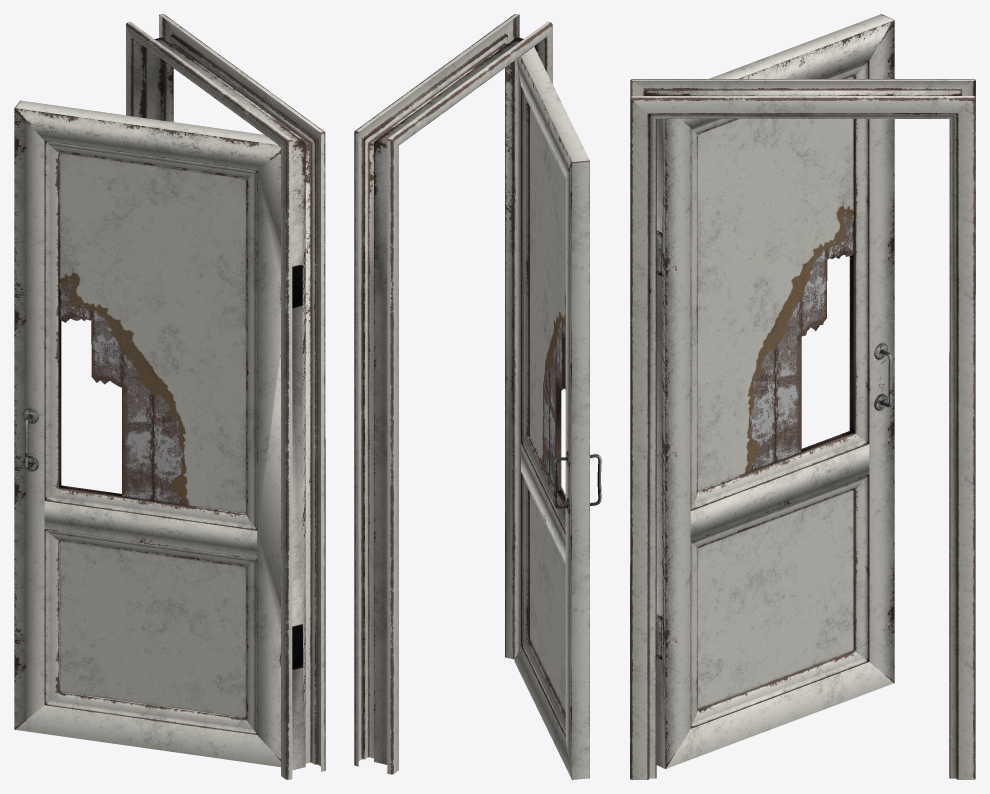
The model's file is дверь2.fbx.
3 views of the same model, side by side, from view 1: azimuth 30°, elevation 25°; view 2: azimuth 150°, elevation 25°; view 3: azimuth 270°, elevation 25° (orthographic). The views are drawn at different scales.
Parts seen in each view (by area): view 1: дверь, проеб; view 2: дверь, проеб; view 3: дверь, проеб.
Boxes of the visible parts, x1,y1,x2,y2 form: дверь: (14, 100, 280, 766); проеб: (126, 14, 325, 779); дверь: (514, 47, 601, 779); проеб: (354, 14, 552, 774); дверь: (656, 14, 894, 768); проеб: (630, 79, 975, 779).
Bounding box in the file's own units: 65.47 × 206 × 94.54.
